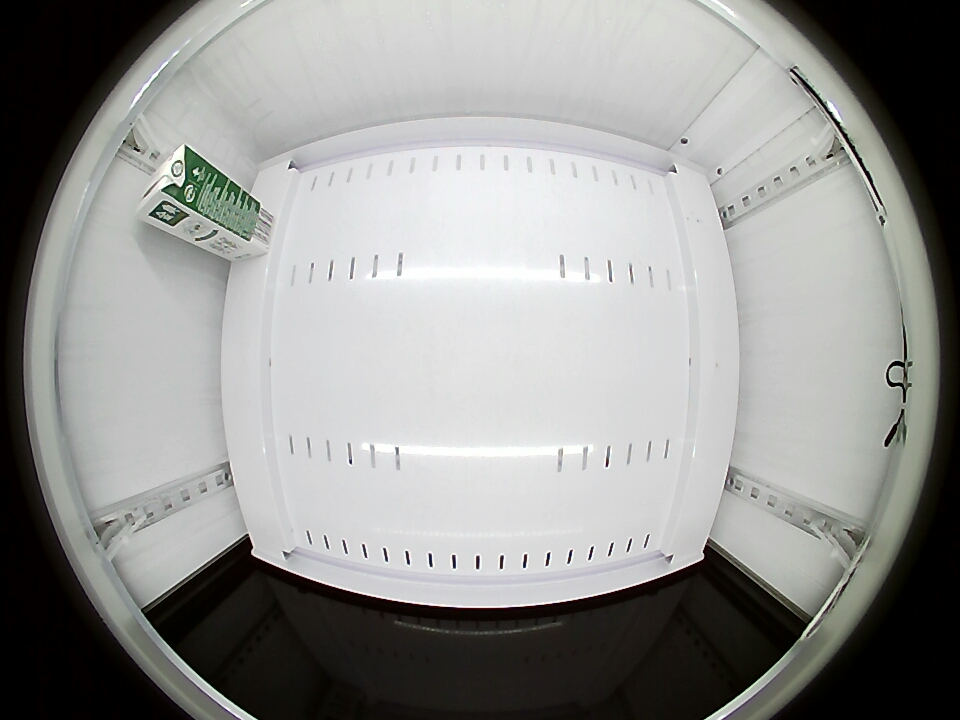jindian: (136, 144, 211, 231)
